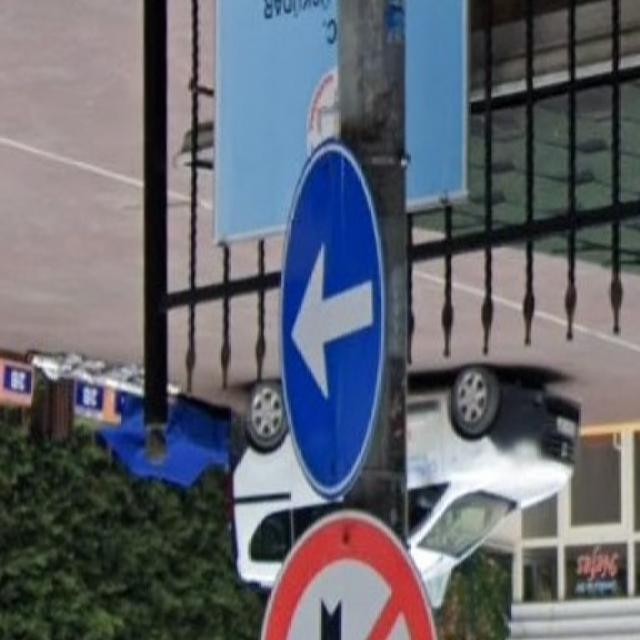Turn Left: (274, 154, 390, 494)
